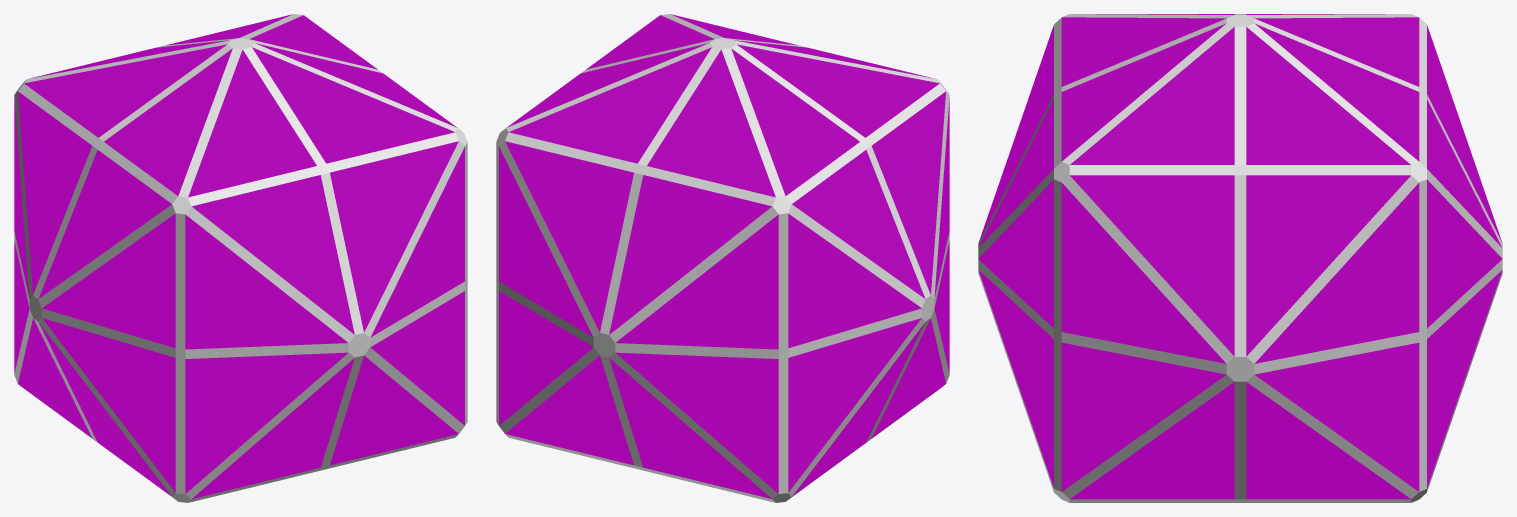
The model's file is asteroid.fbx.
The picture shows the model from 3 angles, left to right: view 1: azimuth 30°, elevation 25°; view 2: azimuth 150°, elevation 25°; view 3: azimuth 270°, elevation 25°; orthographic projection. The views are drawn at different scales.
Visible parts, largest first — view 1: Cube; view 2: Cube; view 3: Cube.
Part boxes in pixels (box(x1,y1,x2,y2)): Cube: box(14, 14, 467, 502); Cube: box(496, 14, 949, 502); Cube: box(978, 14, 1502, 502).
Bounding box in the file's own units: 285 × 285 × 285.
